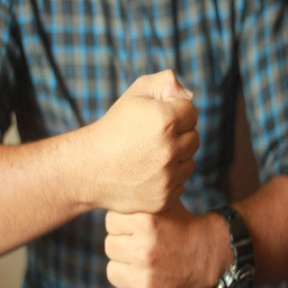G: (81, 65, 209, 288)
